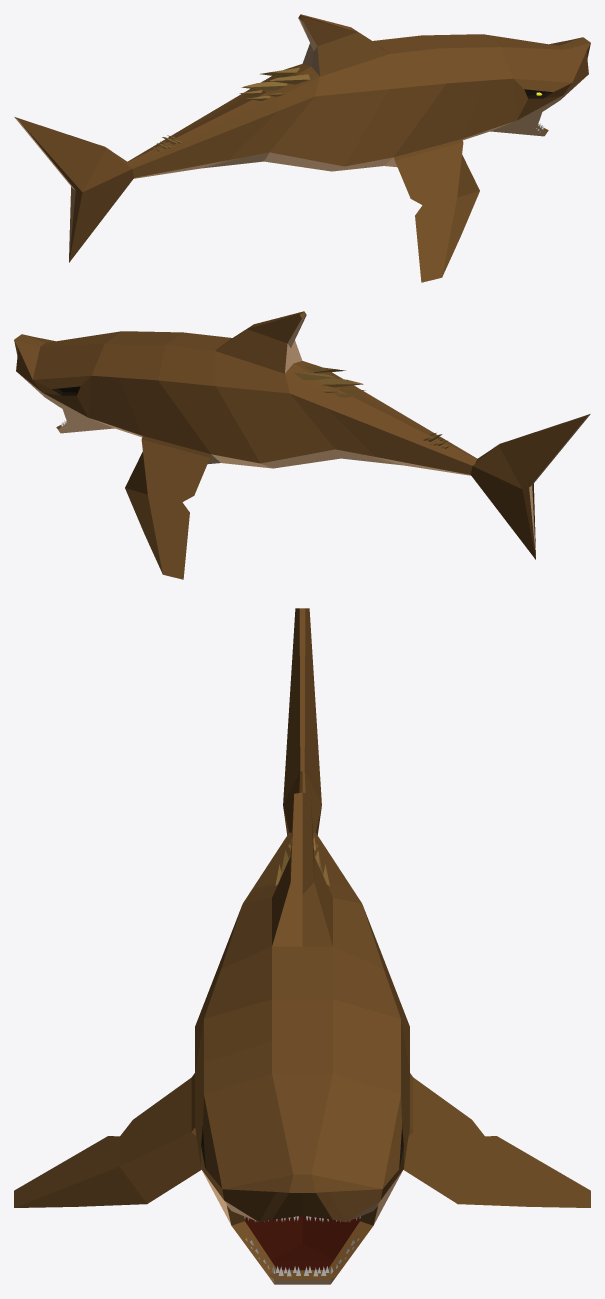
File: shark.fbx
The picture shows the model from 3 angles, top to bottom: view 1: azimuth 30°, elevation 25°; view 2: azimuth 150°, elevation 25°; view 3: azimuth 270°, elevation 25°; orthographic projection. The views are drawn at different scales.
Parts seen in each view (by area): view 1: Plane, Cone.036; view 2: Plane, Cone.036; view 3: Plane.
Part boxes in pixels (bbox=[...]): Plane: bbox=[14, 14, 590, 282]; Cone.036: bbox=[241, 67, 310, 90]; Plane: bbox=[14, 311, 590, 579]; Cone.036: bbox=[294, 365, 363, 387]; Plane: bbox=[14, 608, 590, 1284].
Size of the model in its own units: 456 by 163 by 232.
